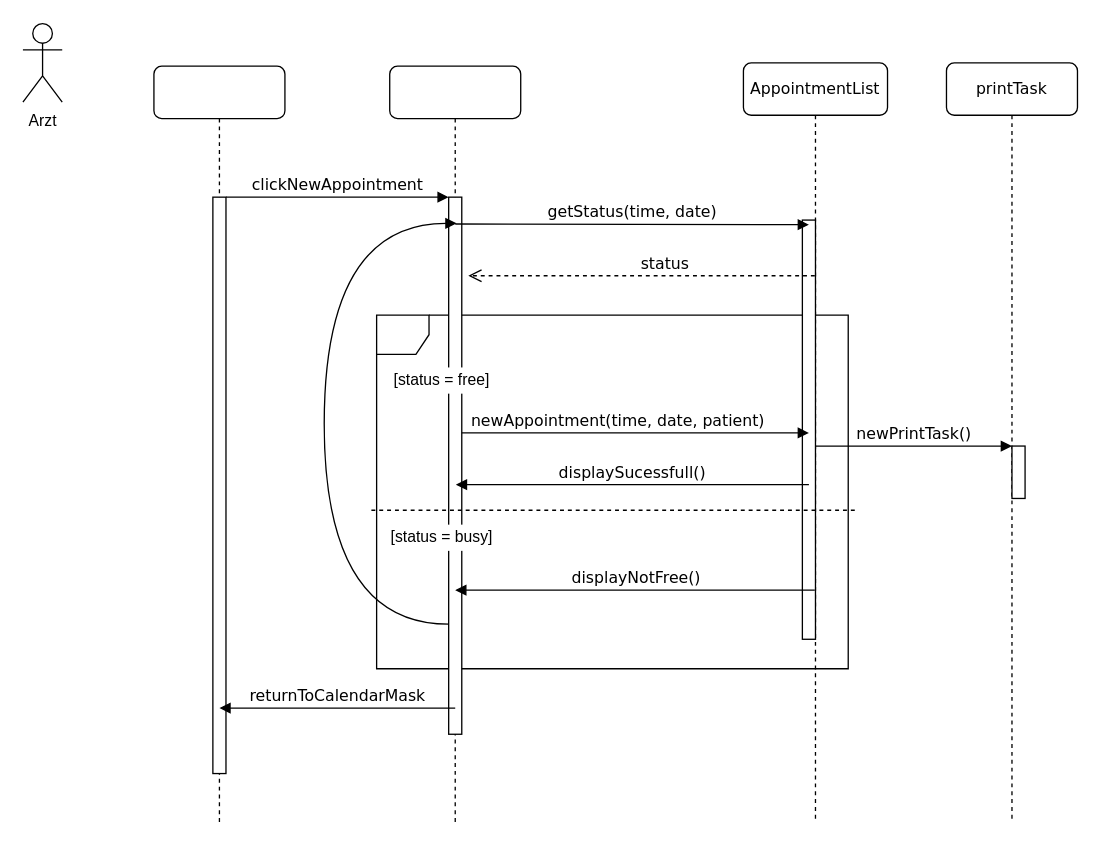
This 1100x849 diagram has some shape labels left out. The box of each missing label's shape, as (x1, y1, x2, y2) in pixels:
alt: (375, 314, 848, 669)
Appointment mask: (388, 65, 521, 826)
Calendar mask: (153, 65, 285, 826)
